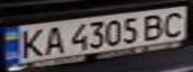0: (103, 16, 127, 47)
3: (87, 18, 109, 50)
4: (66, 20, 90, 52)
5: (121, 15, 145, 44)
A: (39, 24, 69, 56)
B: (136, 11, 172, 42)
C: (157, 8, 190, 38)
K: (15, 26, 48, 60)
